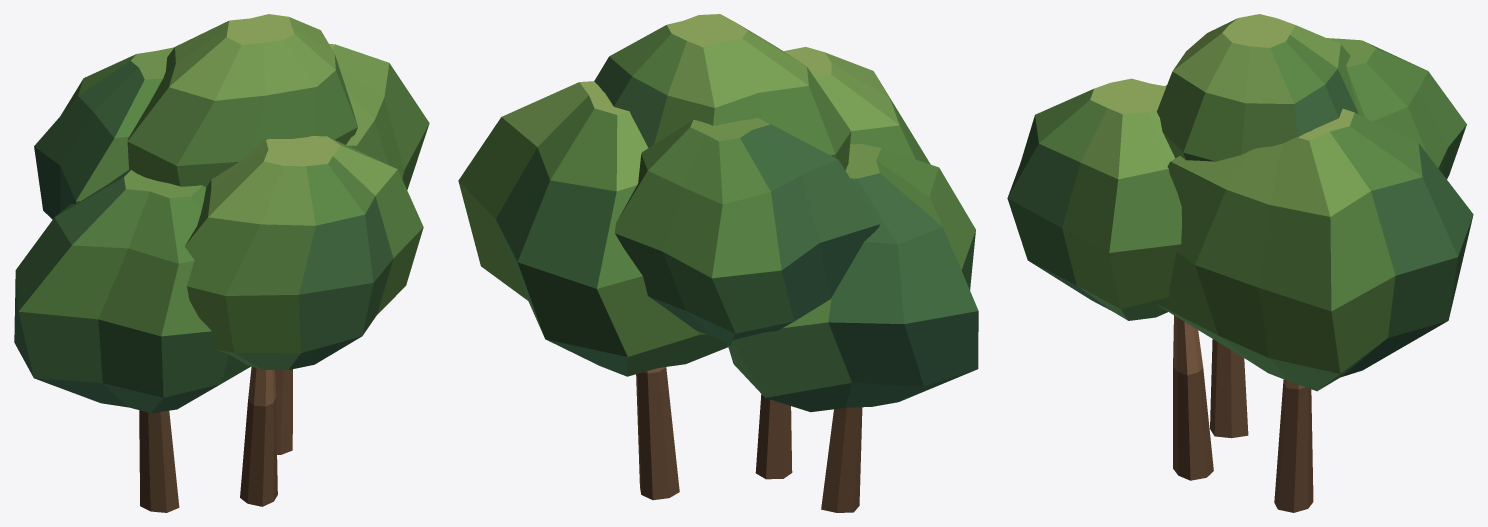
File: Tree_Cluster_01.fbx
The picture shows the model from 3 angles, left to right: view 1: azimuth 30°, elevation 25°; view 2: azimuth 150°, elevation 25°; view 3: azimuth 270°, elevation 25°; orthographic projection. The views are drawn at different scales.
Parts seen in each view (by area): view 1: Tree_Cluster_01; view 2: Tree_Cluster_01; view 3: Tree_Cluster_01.
Part boxes in pixels (box(x1,y1,x2,y2)): Tree_Cluster_01: box(14, 14, 429, 512); Tree_Cluster_01: box(458, 14, 978, 512); Tree_Cluster_01: box(1007, 14, 1473, 512).
Bounding box in the file's own units: 989 × 912 × 841.
Materials: 1 (1 with a texture image).
